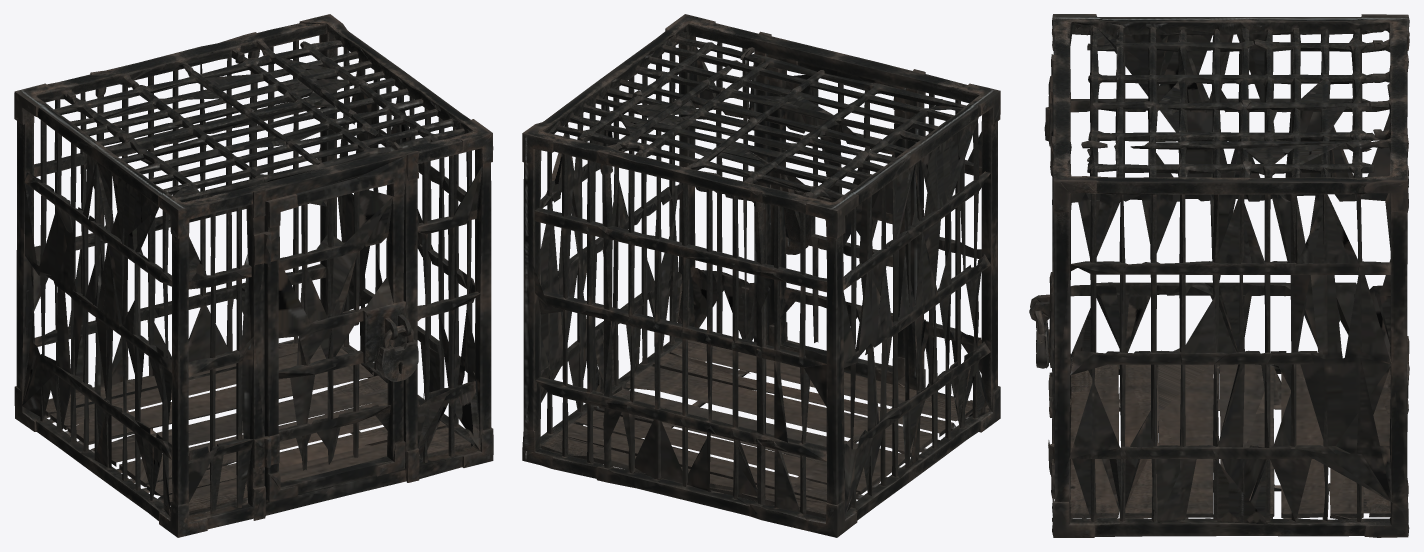
The model's file is JaulaRitualAto1.glb.
3 renders of one model, left to right at view 1: azimuth 30°, elevation 25°; view 2: azimuth 150°, elevation 25°; view 3: azimuth 270°, elevation 25°, orthographic. The views are drawn at different scales.
Visible parts, largest first — view 1: output_unwrapped; view 2: output_unwrapped; view 3: output_unwrapped.
Part boxes in pixels (x1,y1,x2,y2): output_unwrapped: [14, 14, 493, 537]; output_unwrapped: [522, 14, 1000, 537]; output_unwrapped: [1029, 14, 1409, 537].
Bounding box in the file's own units: 1.9 × 1.89 × 1.82.
1 material, 1 textured.
